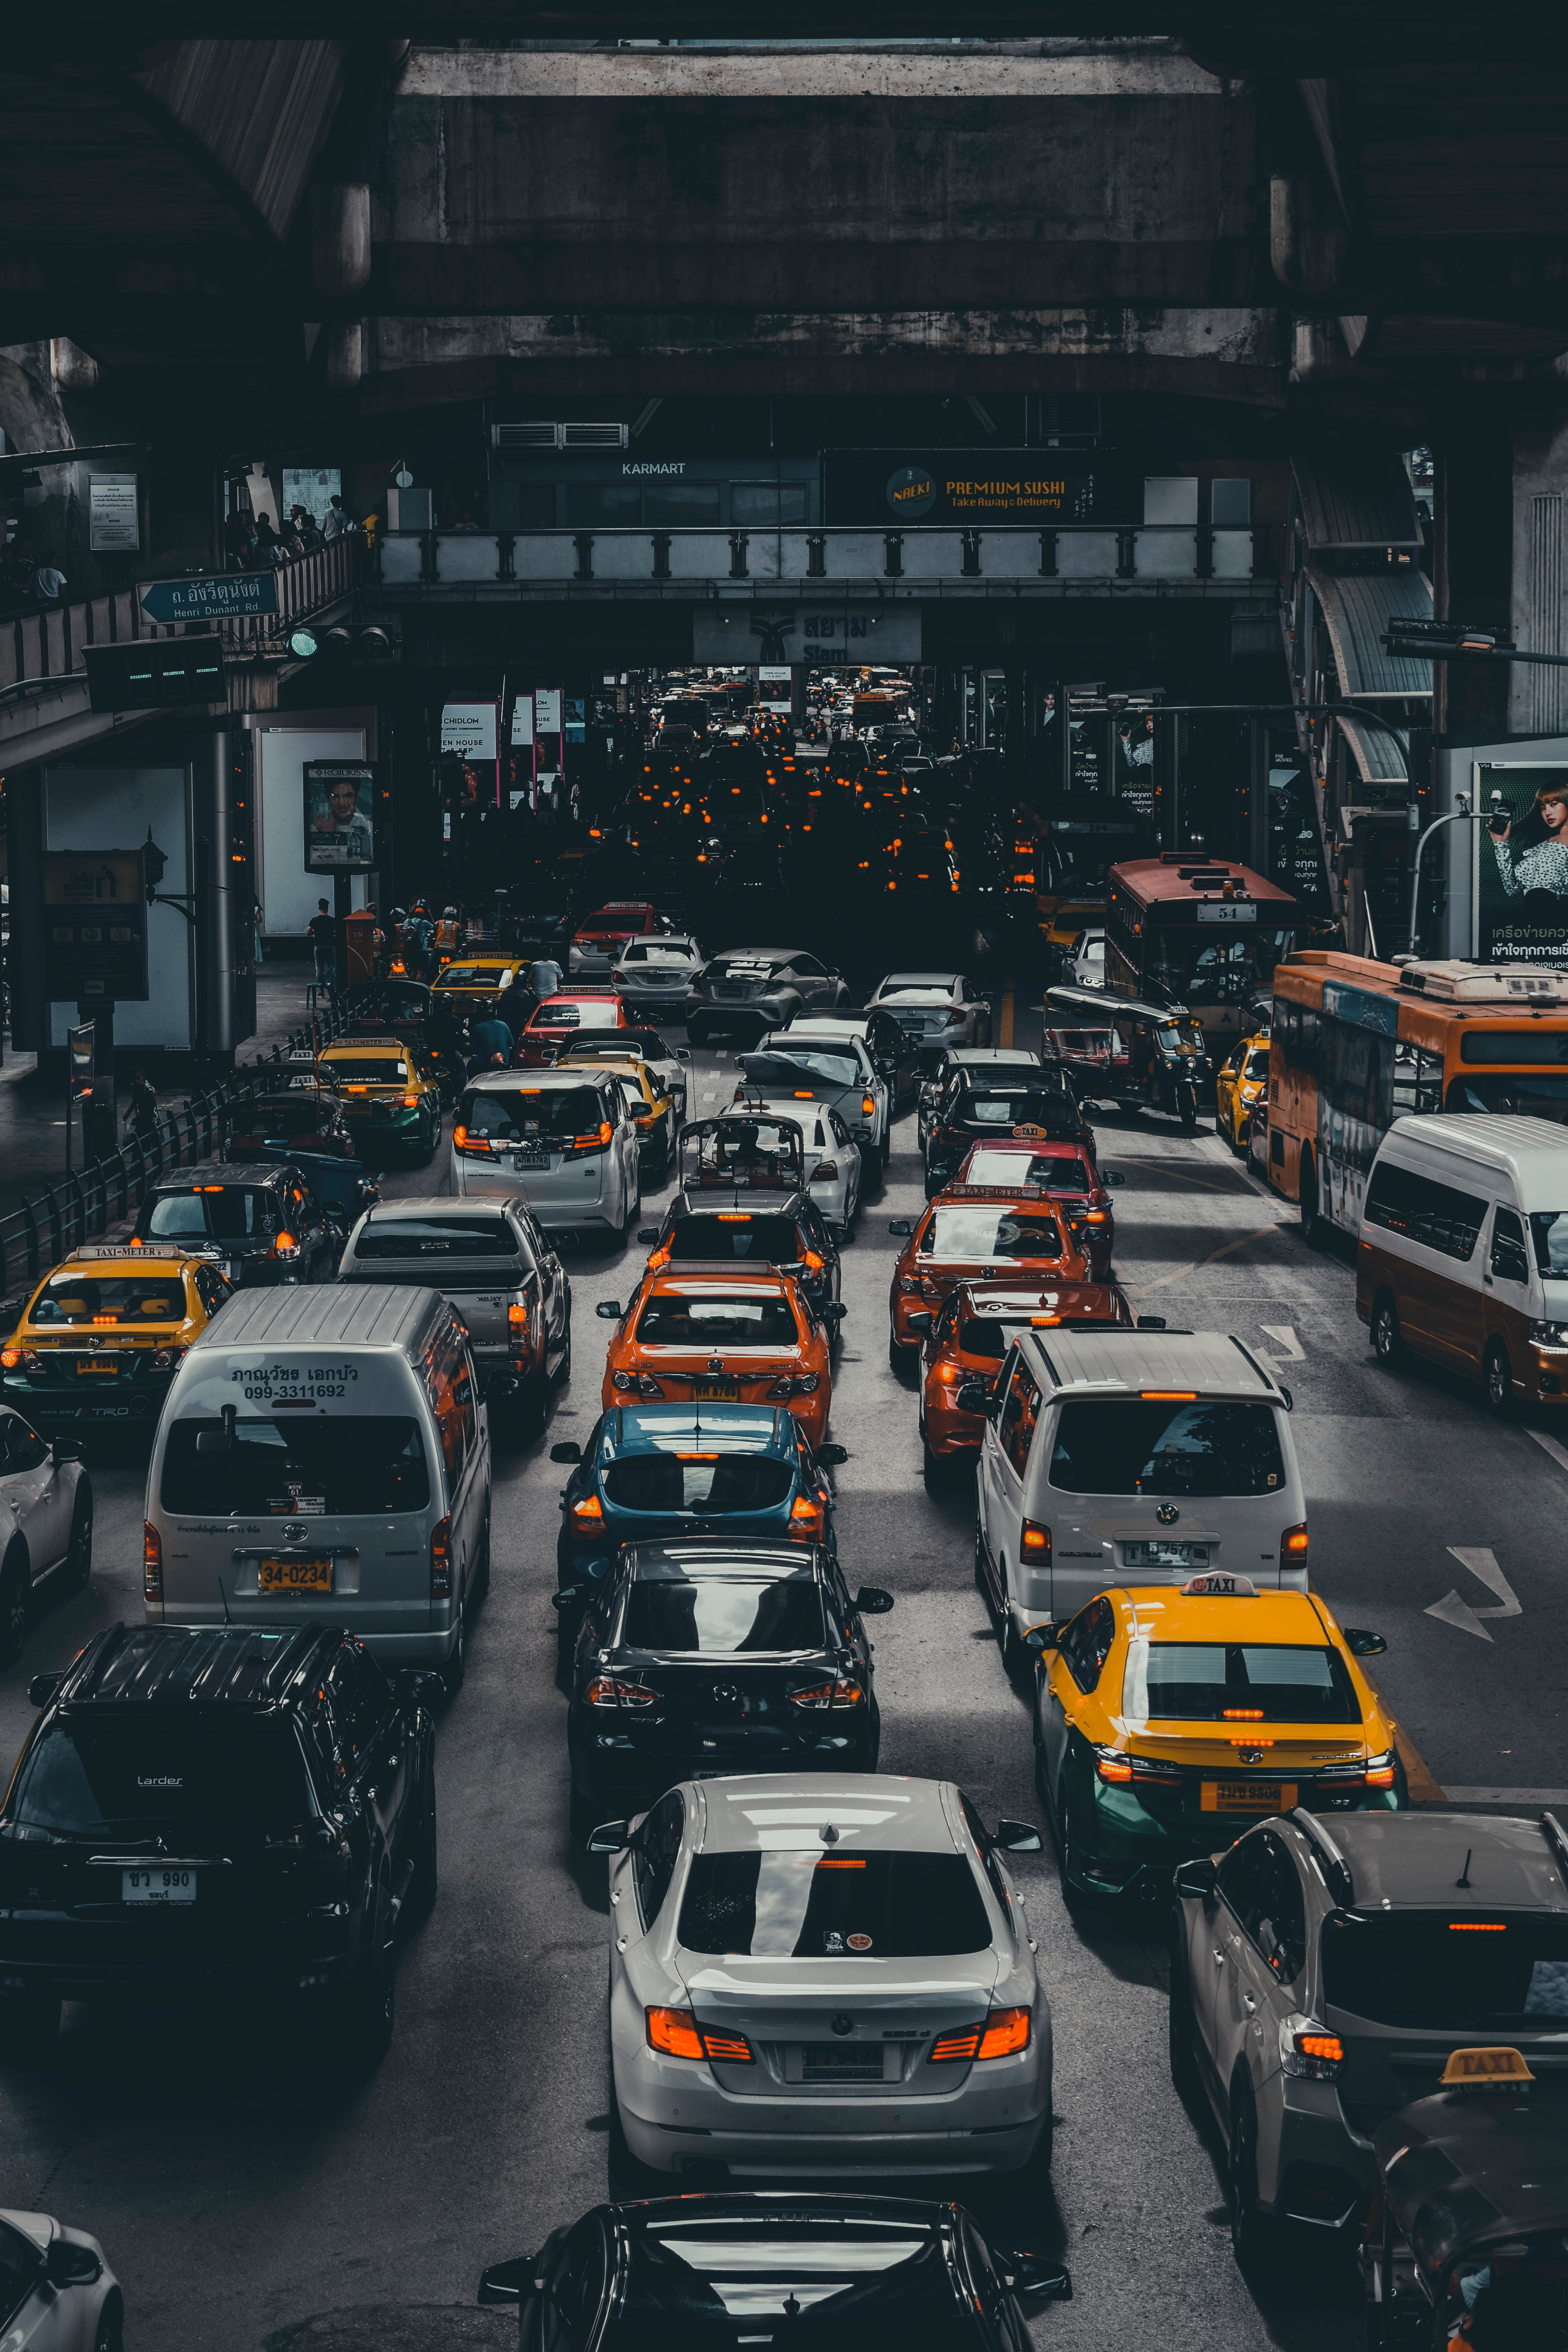car: (581, 1783, 1071, 2165), (17, 1636, 443, 2044), (1169, 1809, 1568, 2198), (1020, 1573, 1419, 1902), (159, 1290, 486, 1647), (968, 1330, 1307, 1657), (555, 1552, 905, 1816), (1381, 1129, 1568, 1424), (535, 1407, 838, 1582), (348, 1202, 590, 1384), (885, 1204, 1111, 1384), (451, 1073, 649, 1270), (600, 1265, 854, 1409), (14, 1269, 189, 1423)
